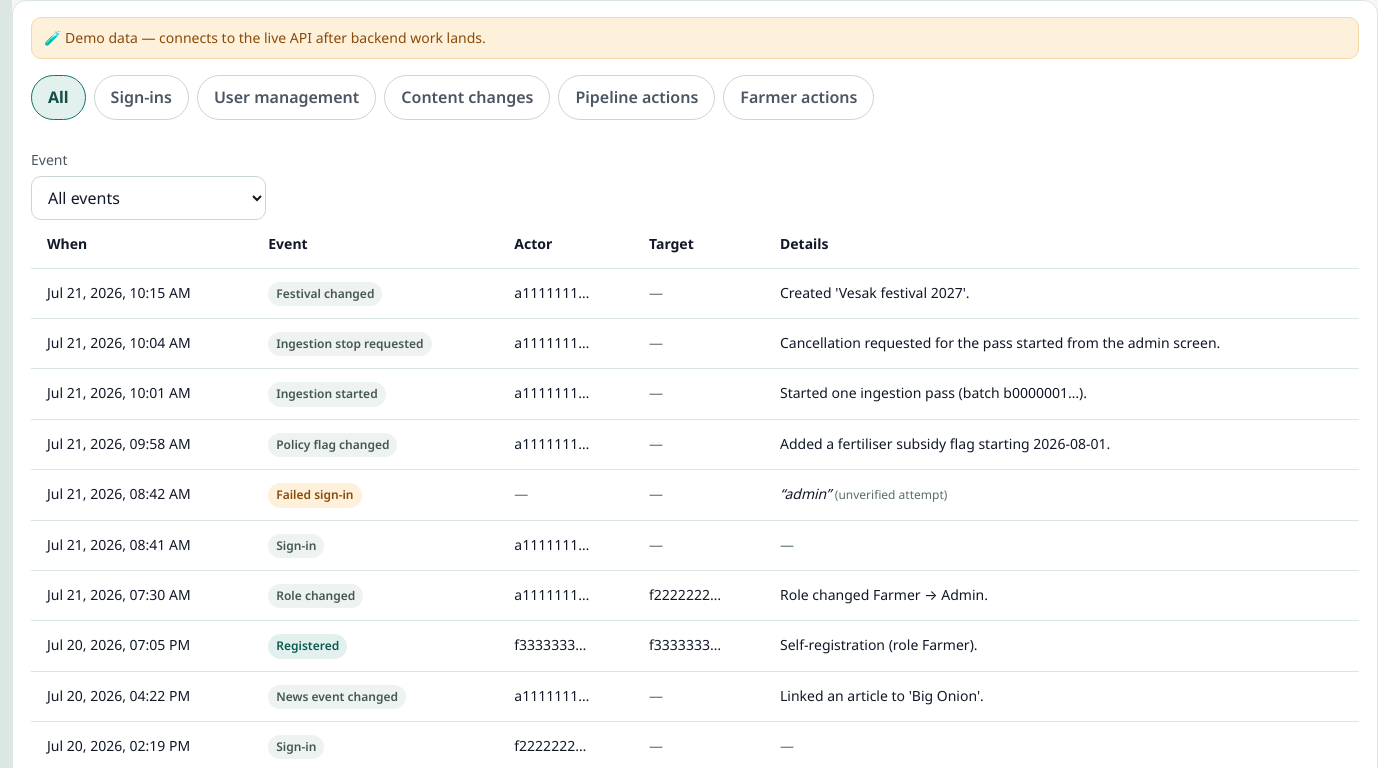
Test: System log — group sub-tabs › sends the pipeline-action wire strings as types= and deep-links ?group=pipeline-actions
Click the tab "Pipeline actions": (637, 97) [558,75,715,120]
(page scrolled)
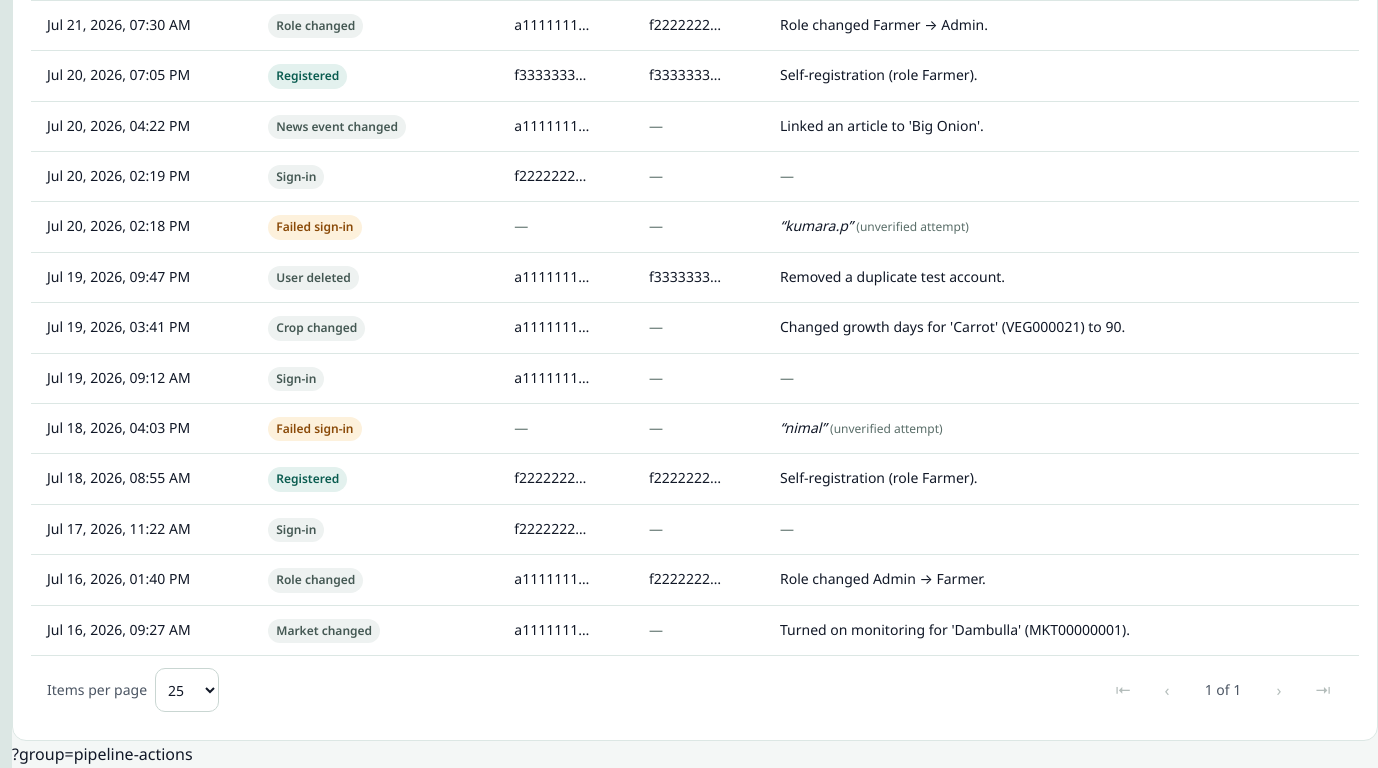
Check: the text with test id "search" reads "?group=pipeline-actions", box [12,743,193,765]
